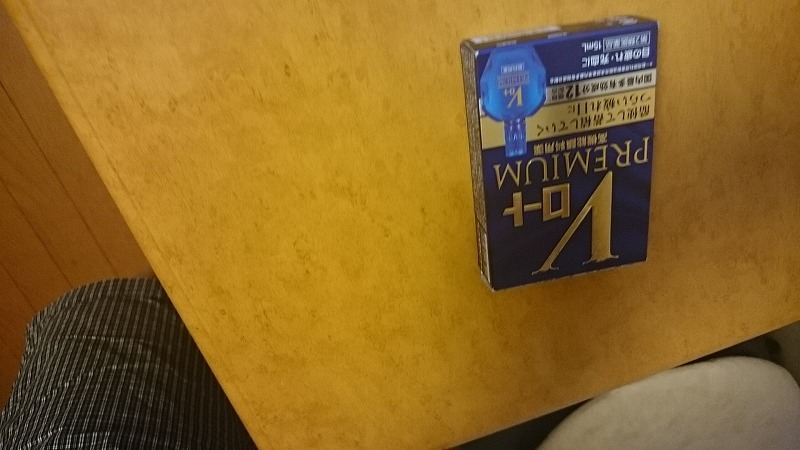D: (432, 6, 670, 301)
